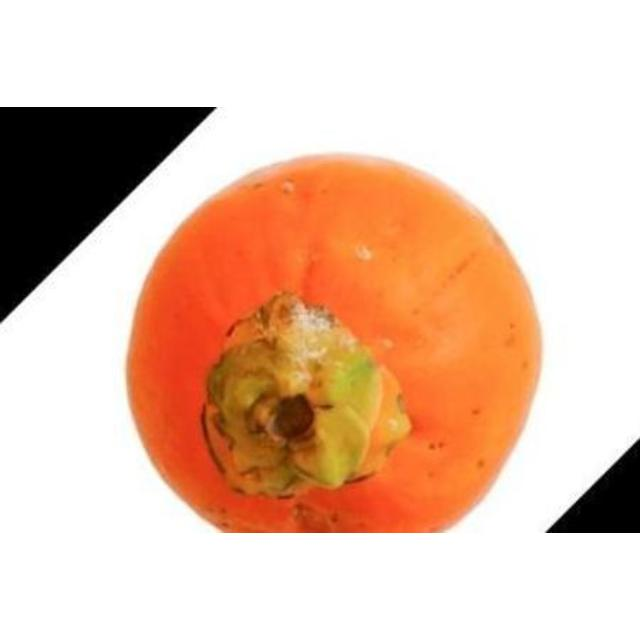good: (122, 153, 546, 532)
